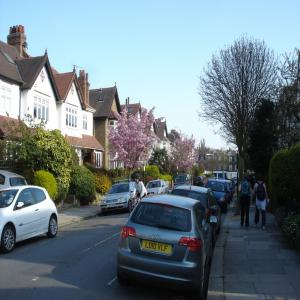Vehicle-registration-plate: (142, 241, 174, 257), (107, 205, 116, 209)
